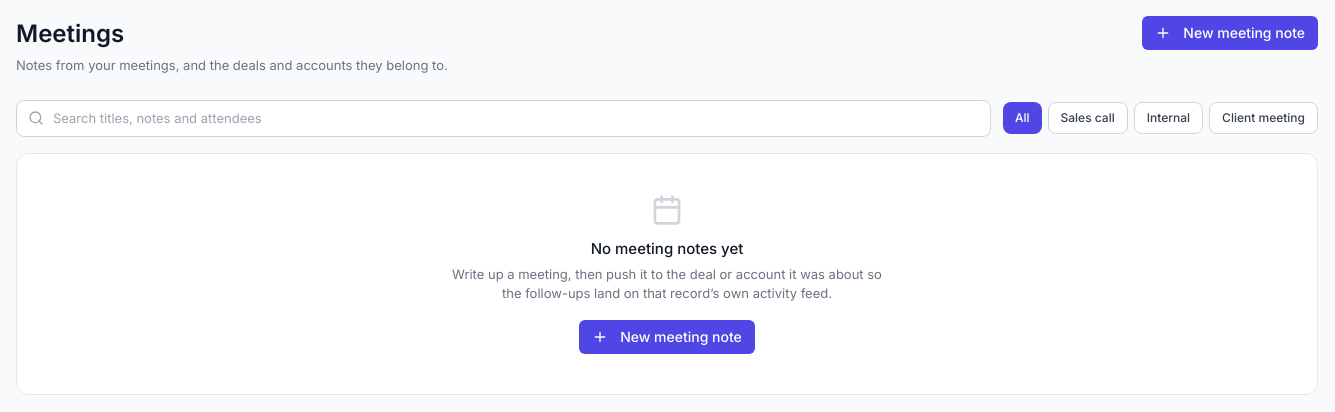
Meetings list on the server (slice 6c) › a filter with no matches is not the empty-workspace state
This screenshot has width=1335, height=412.
Expected: the text "No meeting notes yet" is shown, [591,239,743,258]
Click the button "Internal" at (1168, 118), box [1134,102,1203,134]
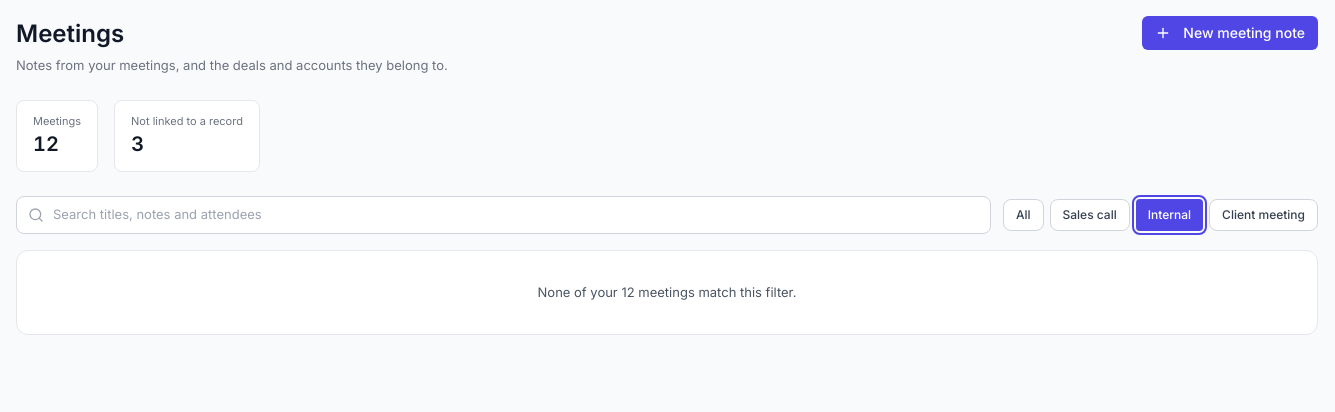
Result: the text "None of your 12 meetings match this filter." is shown at [538,284,796,300]
Result: the text "No meeting notes yet" is gone
